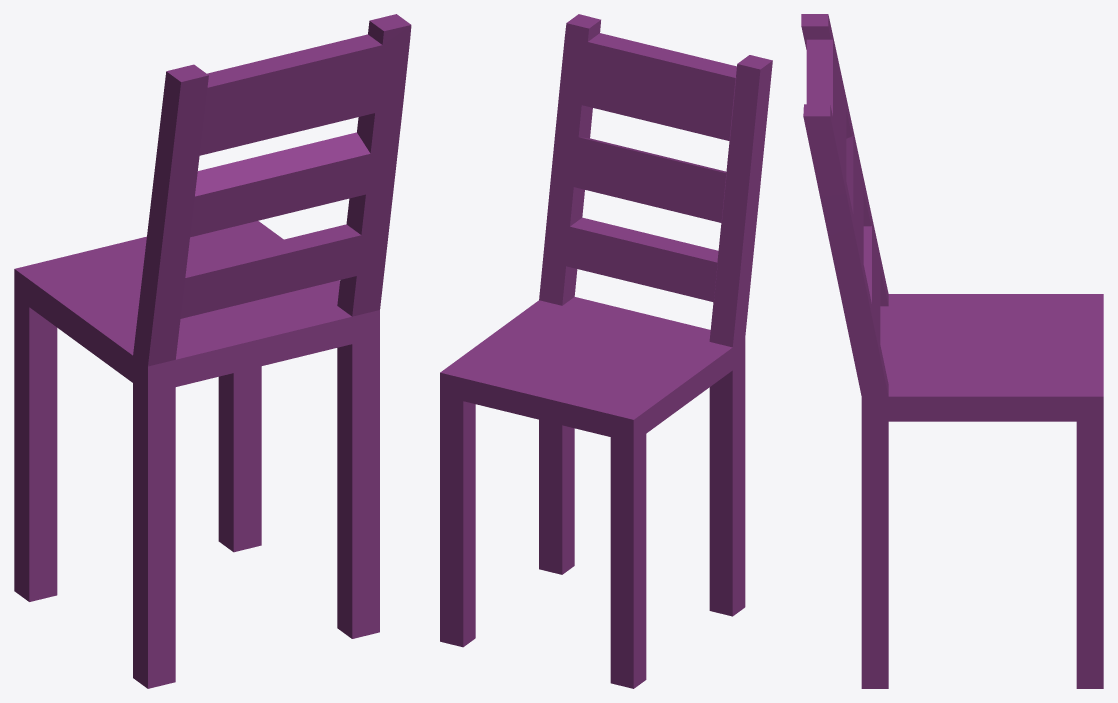
File: Chair.fbx
3 renders of one model, left to right at view 1: azimuth 30°, elevation 25°; view 2: azimuth 150°, elevation 25°; view 3: azimuth 270°, elevation 25°, orthographic. The views are drawn at different scales.
Parts seen in each view (by area): view 1: pCube1; view 2: pCube1; view 3: pCube1.
Part boxes in pixels (x1=…): pCube1: x1=14, y1=14, x2=411, y2=688; pCube1: x1=440, y1=14, x2=772, y2=688; pCube1: x1=801, y1=14, x2=1103, y2=688.
Size of the model in its own units: 3.54 by 9.2 by 4.4.
